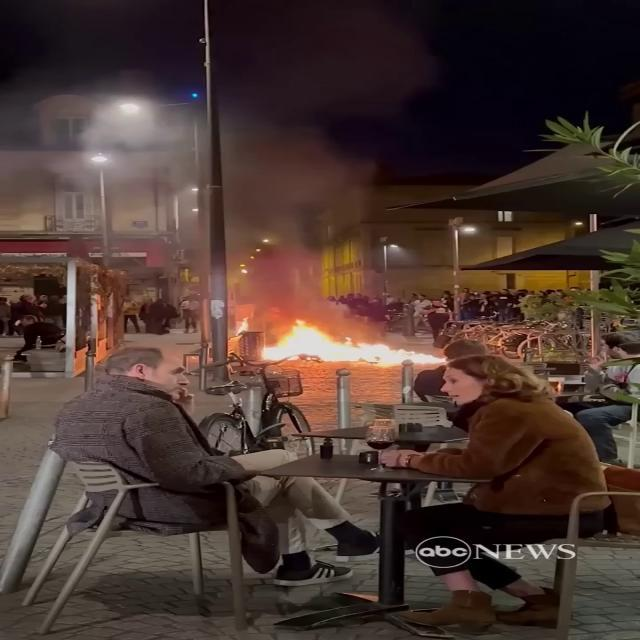Fire: (250, 316, 423, 368)
Smoke: (165, 1, 434, 309)
